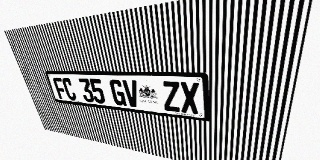3: (78, 78, 95, 103)
5: (89, 79, 106, 104)
C: (61, 78, 77, 101)
F: (52, 77, 68, 100)
G: (109, 79, 127, 106)
V: (122, 80, 140, 108)
X: (180, 82, 199, 114)
Z: (161, 81, 181, 112)
